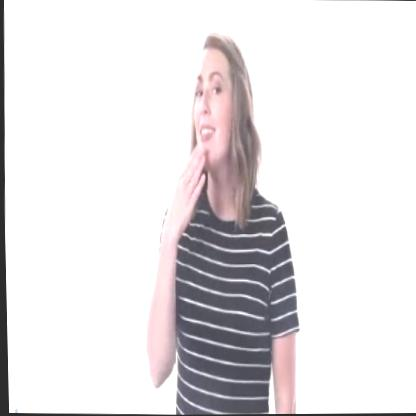ThankYou: (148, 25, 263, 287)
